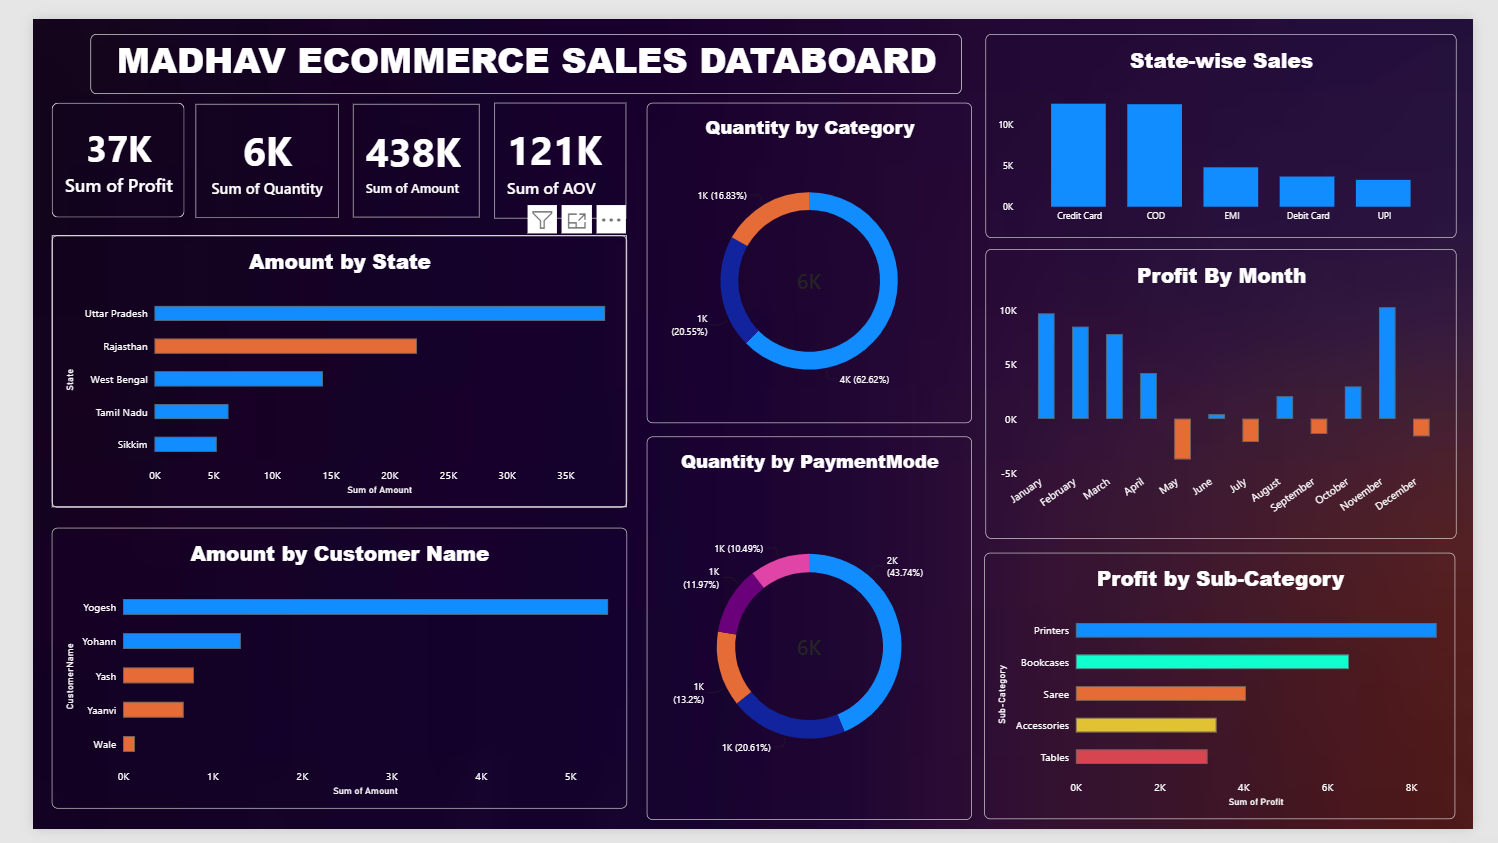

What the dashboard file says about the page in this screenshot:
{"tool":"powerbi","page":{"name":"Page 1","canvas":[1920,1080],"ordinal":0},"visuals":[{"type":"columnChart","title":"Profit By Month","fields":{"Category":["Orders.Order Date.Variation.Date Hierarchy.Month"],"Y":["Sum(Details.Profit)"]},"box":[1269.8,307,628.2,386.6],"z":0},{"type":"clusteredBarChart","title":"Profit by Sub-Category","fields":{"Category":["Details.Sub-Category"],"Y":["Sum(Details.Profit)"]},"box":[1268.9,712.4,628.2,355.4],"z":1000},{"type":"donutChart","title":"Quantity by Category","fields":{"Category":["Details.Category"],"Y":["Sum(Details.Quantity)"]},"box":[818.4,112.2,433.4,427.1],"z":2000},{"type":"donutChart","title":" Quantity by PaymentMode","fields":{"Category":["Details.PaymentMode","Details.Category"],"Y":["Sum(Details.Quantity)"]},"box":[818.4,556.5,433.4,511.3],"z":3000},{"type":"cardVisual","fields":{"Data":["Sum(Details.Profit)"]},"box":[24.4,111.6,177.9,153.5],"z":4000},{"type":"cardVisual","fields":{"Data":["Sum(Details.Quantity)"]},"box":[216.3,113.4,191.7,152.8],"z":5000},{"type":"cardVisual","fields":{"Data":["Sum(Details.AOV)"]},"box":[615.7,111.6,176.2,154.3],"z":6000},{"type":"cardVisual","fields":{"Data":["Sum(Details.Amount)"]},"box":[427.3,113.4,169.2,151.7],"z":7000},{"type":"clusteredBarChart","title":"Amount by State","fields":{"Category":["Orders.State"],"Y":["Sum(Details.Amount)"]},"box":[24.9,288.4,767,363.2],"z":8000},{"type":"clusteredBarChart","title":"Amount by Customer Name","fields":{"Category":["Orders.CustomerName"],"Y":["Sum(Details.Amount)"]},"box":[24.9,678.1,767,374.1],"z":9000},{"type":"columnChart","title":"State-wise Sales","fields":{"Category":["Details.PaymentMode"],"Y":["Sum(Details.Profit)"]},"box":[1269.8,19.2,627.9,272.1],"z":10000},{"type":"actionButton","box":[0,0,100,40],"z":11000},{"type":"textbox","title":"MADHAV ECOMMERCE SALES DATABOARD","box":[76.7,19.2,1161.6,80.2],"z":14000}]}

Visuals, with their boxes in screenshot pixels (x1, y1, x2, y2), scaled from the page's 1920x1080 canvas onto the 1498x843 screenshot:
"Profit By Month" columnChart: (left=991, top=240, right=1481, bottom=541)
"Profit by Sub-Category" clusteredBarChart: (left=990, top=556, right=1480, bottom=833)
"Quantity by Category" donutChart: (left=639, top=88, right=977, bottom=421)
" Quantity by PaymentMode" donutChart: (left=639, top=434, right=977, bottom=833)
cardVisual - Sum(Details.Profit): (left=19, top=87, right=158, bottom=207)
cardVisual - Sum(Details.Quantity): (left=169, top=89, right=318, bottom=208)
cardVisual - Sum(Details.AOV): (left=480, top=87, right=618, bottom=208)
cardVisual - Sum(Details.Amount): (left=333, top=89, right=465, bottom=207)
"Amount by State" clusteredBarChart: (left=19, top=225, right=618, bottom=509)
"Amount by Customer Name" clusteredBarChart: (left=19, top=529, right=618, bottom=821)
"State-wise Sales" columnChart: (left=991, top=15, right=1481, bottom=227)
actionButton: (left=0, top=0, right=78, bottom=31)
"MADHAV ECOMMERCE SALES DATABOARD" textbox: (left=60, top=15, right=966, bottom=78)
